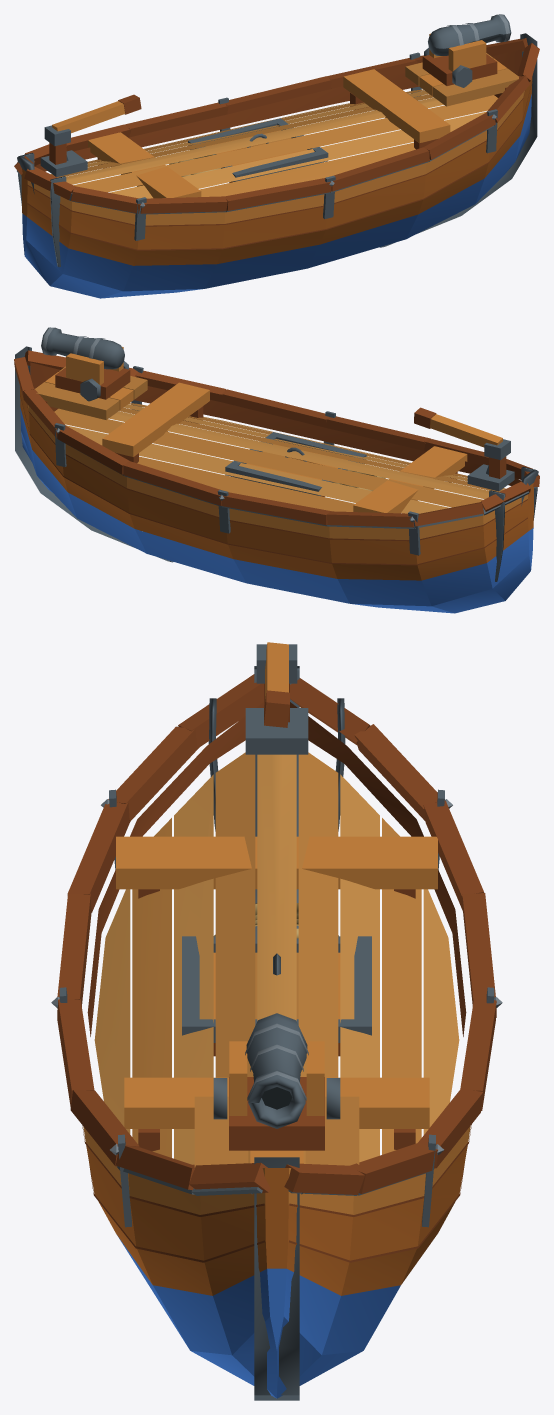
3 views of the same model, one above another, from view 1: azimuth 30°, elevation 25°; view 2: azimuth 150°, elevation 25°; view 3: azimuth 270°, elevation 25° (orthographic). The views are drawn at different scales.
Parts seen in each view (by area): view 1: 水手; view 2: 水手; view 3: 水手.
Boxes of the visible parts, x1,y1,x2,y2 form: 水手: (14, 14, 539, 298); 水手: (14, 327, 539, 613); 水手: (51, 642, 502, 1400).
Bounding box in the file's own units: 1.2 × 0.4665 × 0.456.
